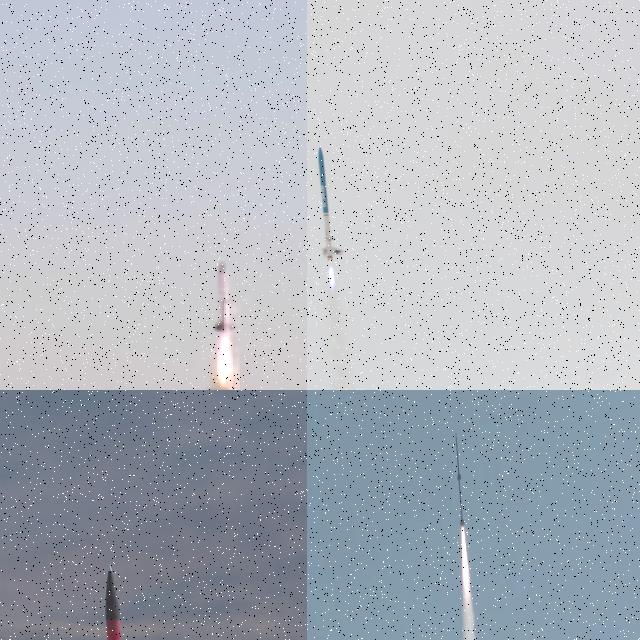Rocket: (315, 147, 345, 261), (97, 563, 138, 640), (212, 260, 238, 332), (455, 433, 467, 529)
